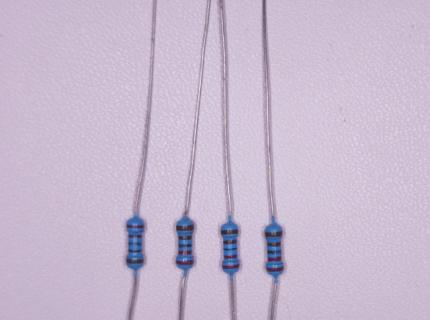Black band: (129, 242, 142, 246), (268, 250, 281, 254), (178, 244, 192, 247), (223, 248, 237, 250)
Brown band: (176, 225, 194, 231), (265, 231, 282, 237), (221, 229, 238, 234), (126, 259, 143, 263), (223, 240, 237, 244), (128, 249, 142, 253), (268, 242, 281, 246), (179, 236, 191, 240)
Red band: (176, 260, 194, 265), (222, 264, 240, 269), (267, 267, 284, 272), (126, 224, 144, 228), (268, 256, 281, 261), (128, 235, 142, 238), (178, 251, 192, 254), (224, 255, 237, 258)
